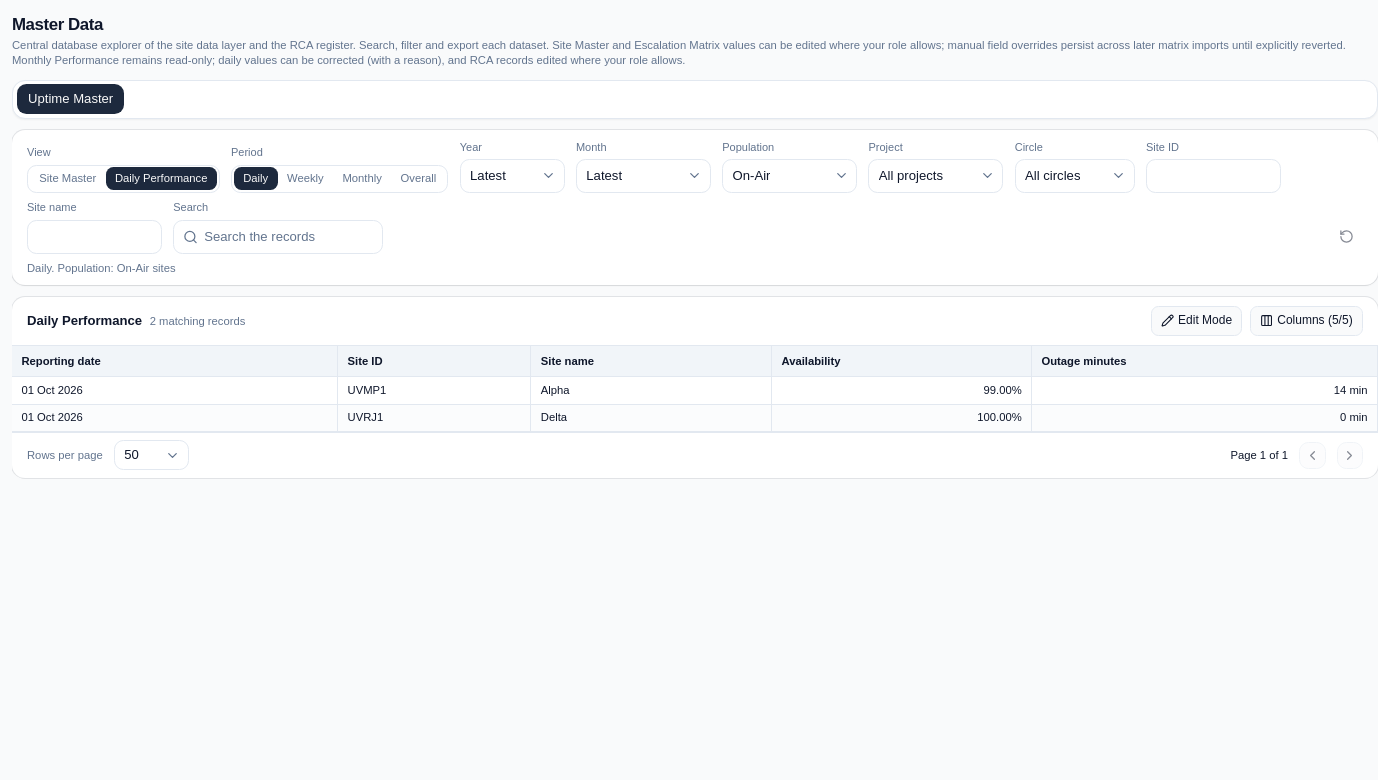
it: Master Data editing › shows the server's reason error
expect the text "Alpha" is shown: met, box [531,377,772,404]
Click the button "Edit Mode" at [1197, 321], box [1151,306,1242,336]
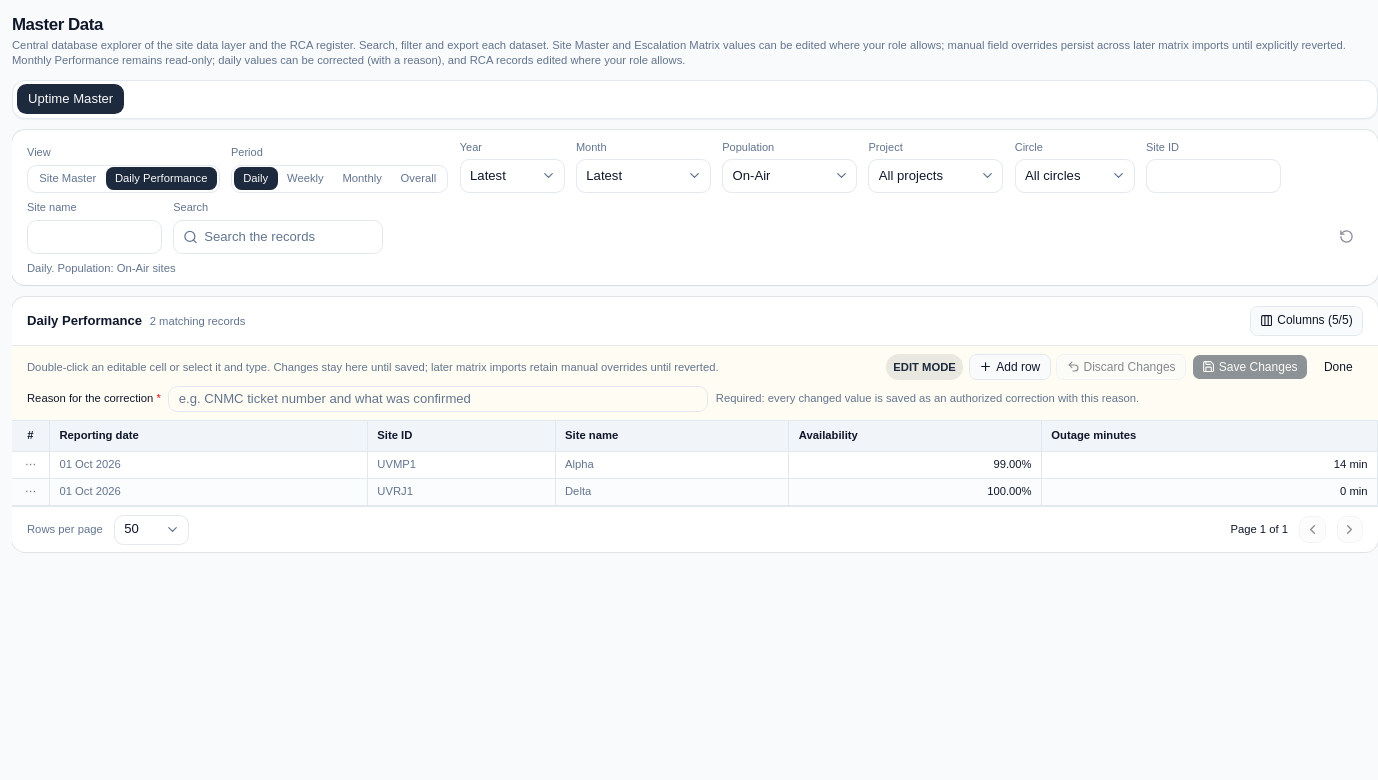
Double-click the cell "99.00%" at [915, 465], box [789,451,1042,478]
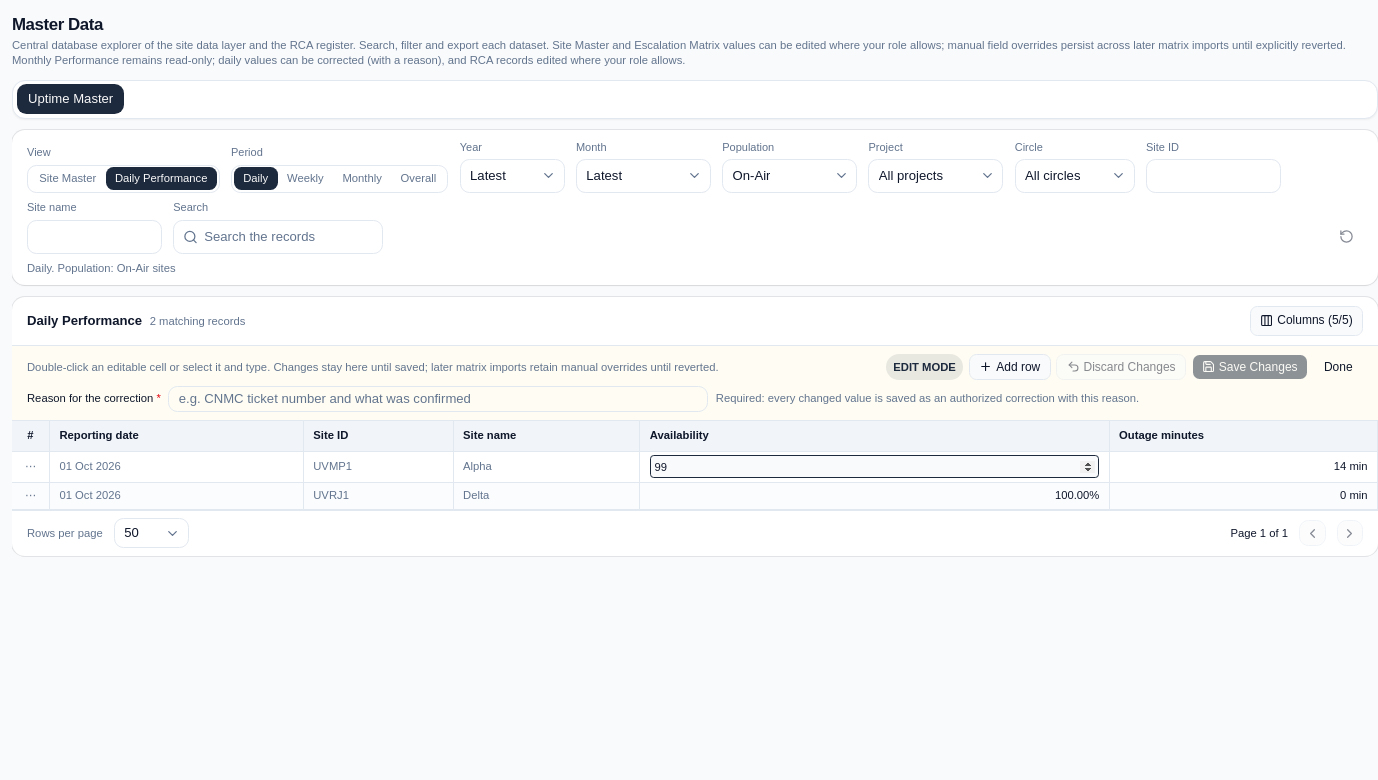
Replace the text in the number field named "Availability of record 1" with "50" at [875, 467], box [650,455,1099,478]
Then press Enter
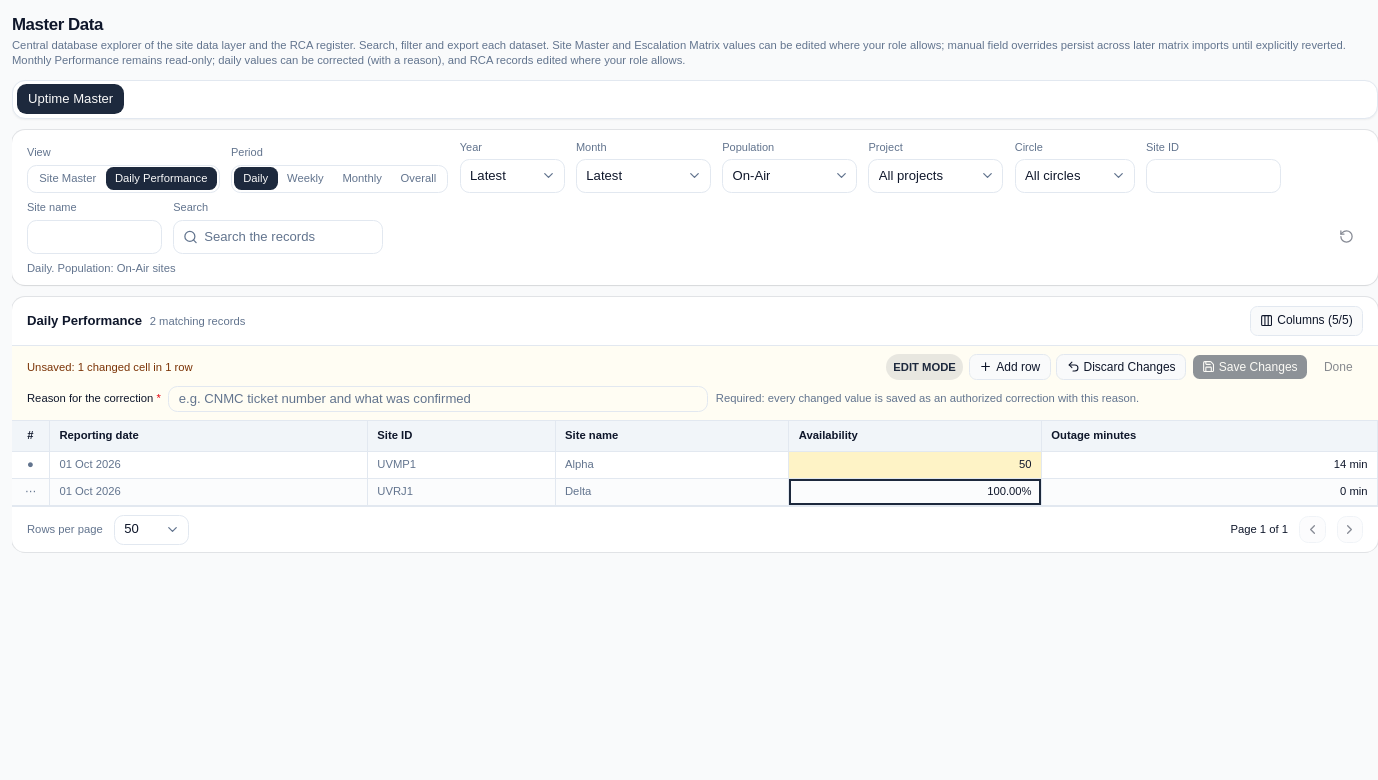
Type "x" into the field labelled "Reason for the correction *" at [438, 399], box [168,386,708,412]
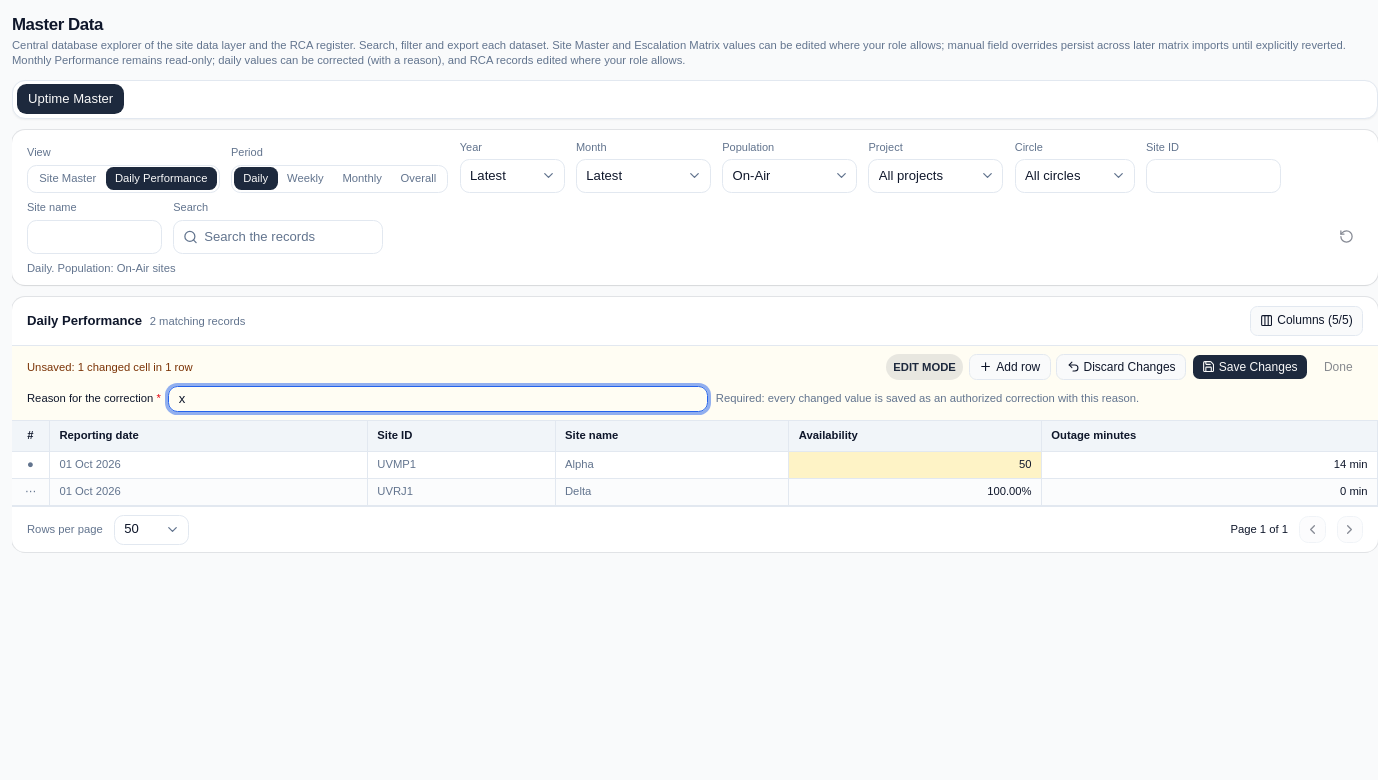
Click the button "Save Changes" at [1250, 367], box [1192,354,1308,380]
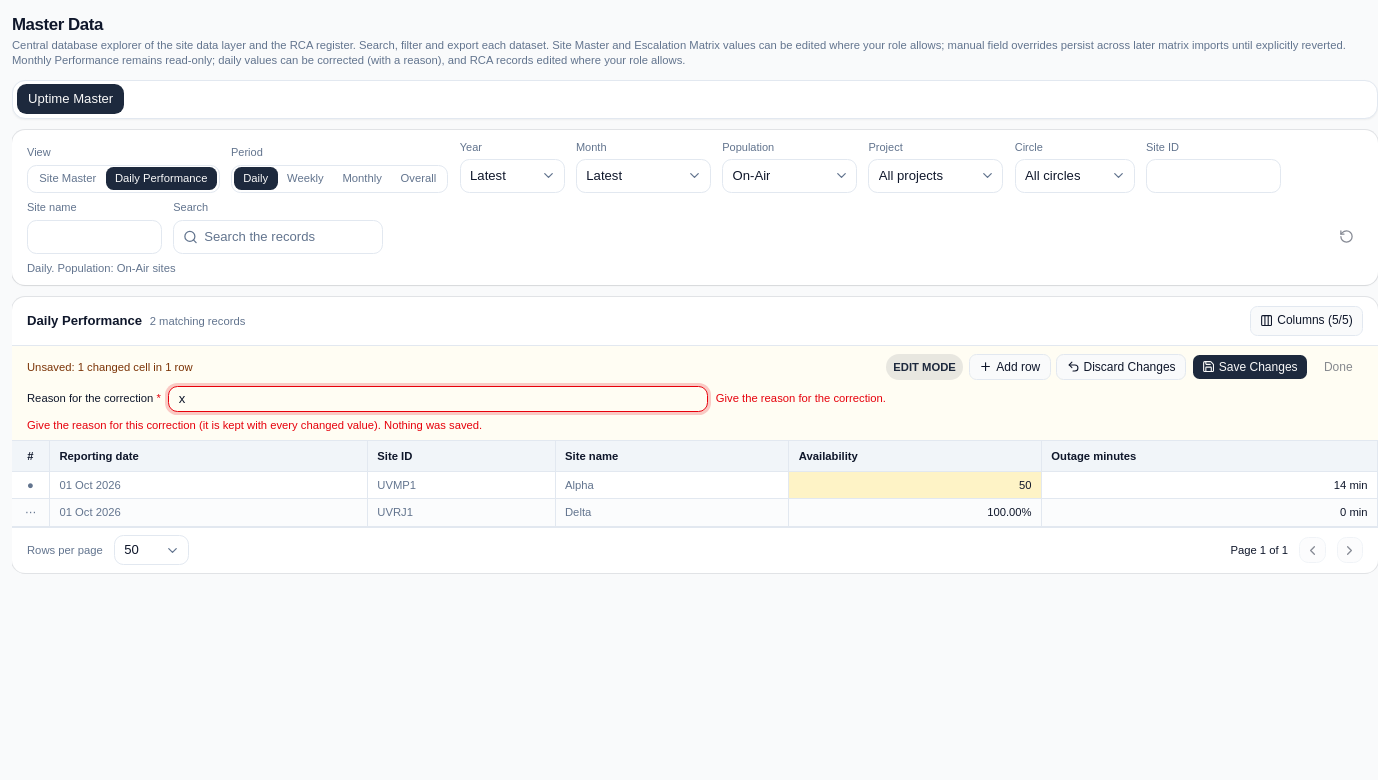
expect the message shows "Give the reason for this correction": met, box [27,419,482,431]
